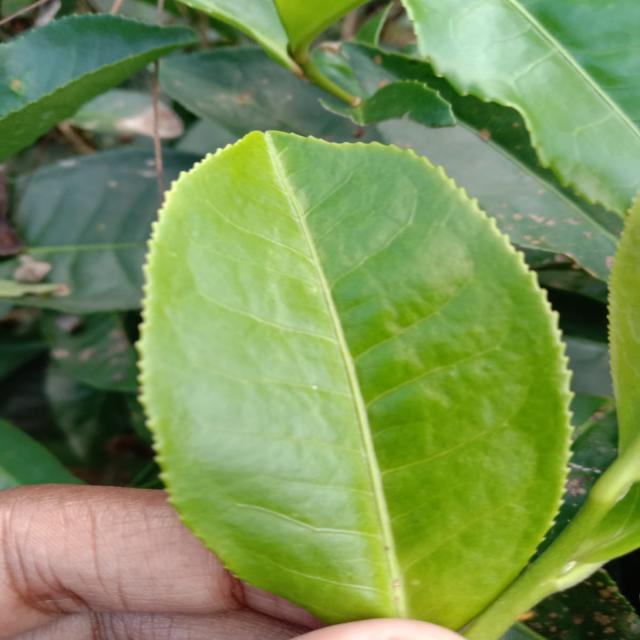Category C(4-7 days): (118, 107, 578, 640)
